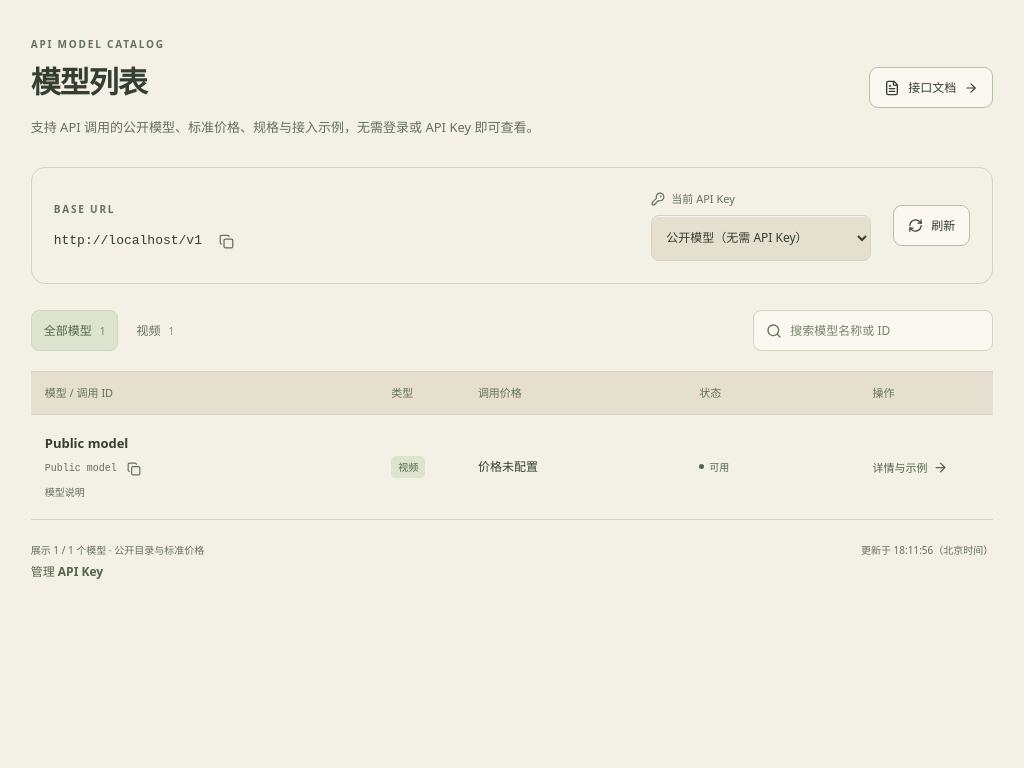
Test: API model catalog page › cancels private requests when returning to the public catalog and ignores late personal prices
Expected: the heading "Public model" is shown, x1=45 y1=434 x2=128 y2=452
Select "First key · sk-fir****1234" in the dropdown labelled "当前 API Key" at (761, 238), box x1=651 y1=215 x2=871 y2=261
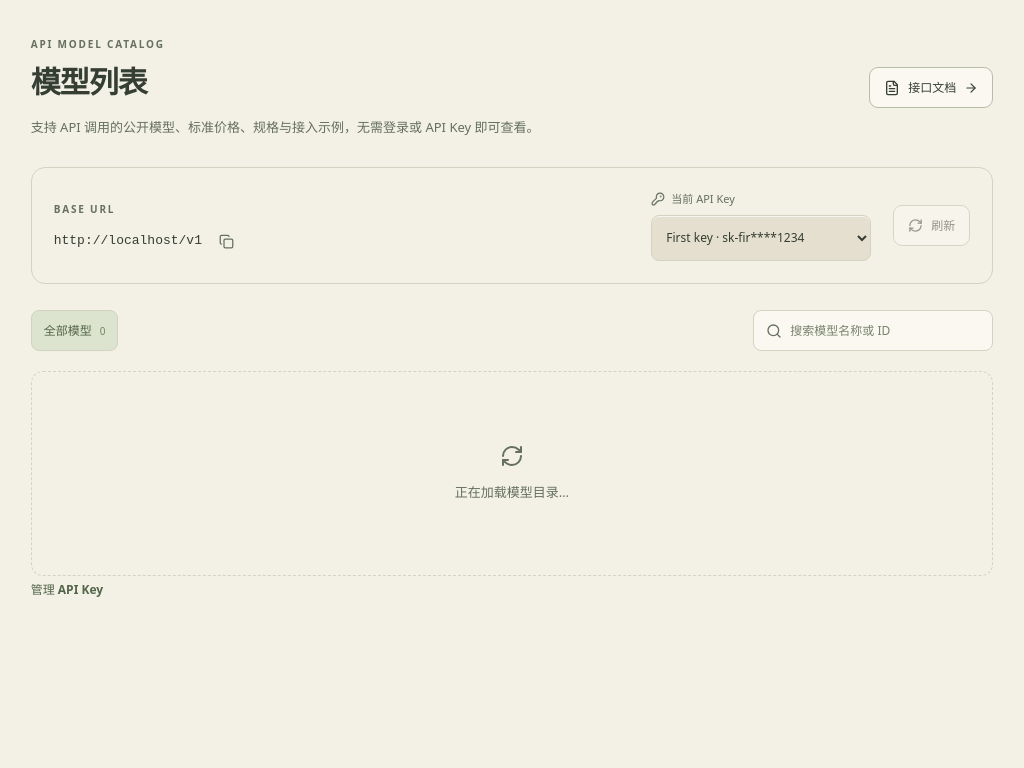
Select "公开模型（无需 API Key）" in the dropdown labelled "当前 API Key" at (761, 238), box x1=651 y1=215 x2=871 y2=261
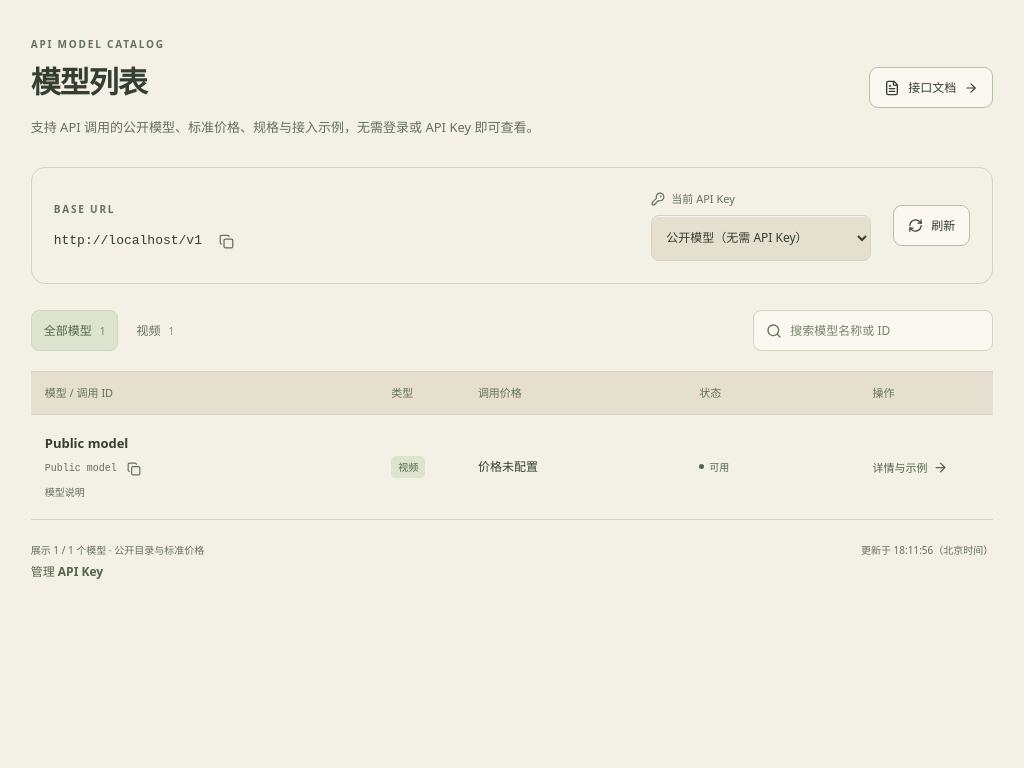
Expected: the heading "Public model" is shown, x1=45 y1=434 x2=128 y2=452
